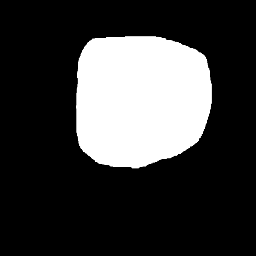mass: (77, 34, 213, 163)
